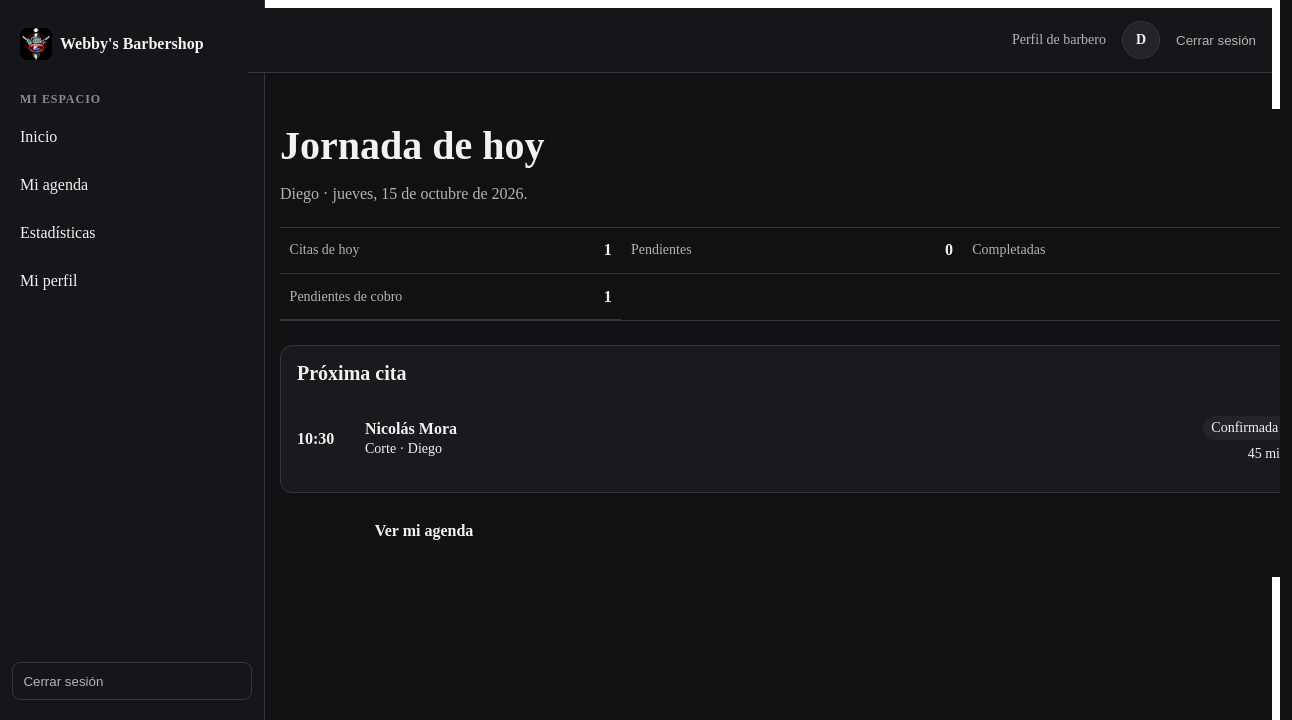
Test: BarberPage › shows only appointments assigned to the signed-in barber
This screenshot has width=1292, height=720.
Click the button "Mi agenda". click: coordinates (132, 185)
box: top-left (12, 163), bottom-right (252, 207)
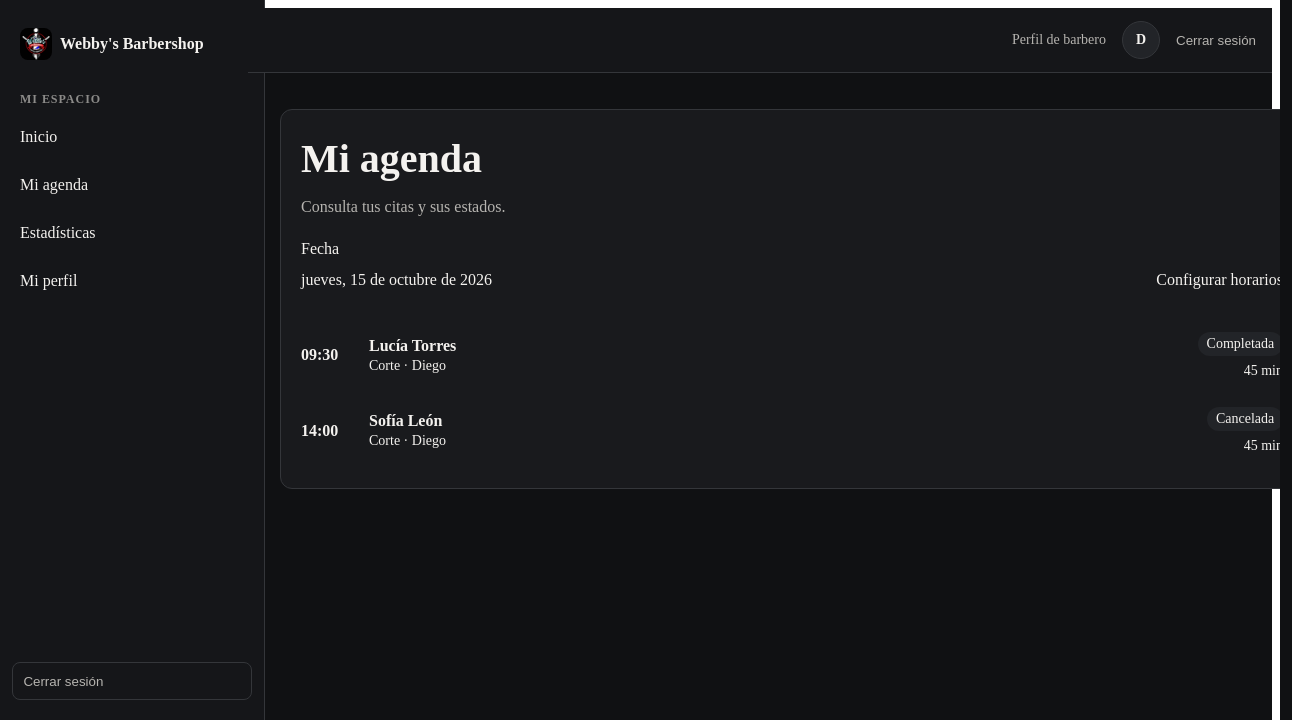
Check: the text "Lucía Torres" is shown, box top-left (369, 337), bottom-right (456, 354)
Check: the text "Sofía León" is shown, box top-left (369, 412), bottom-right (442, 429)
Check: the text "09:30" is shown, box top-left (301, 346), bottom-right (338, 363)
